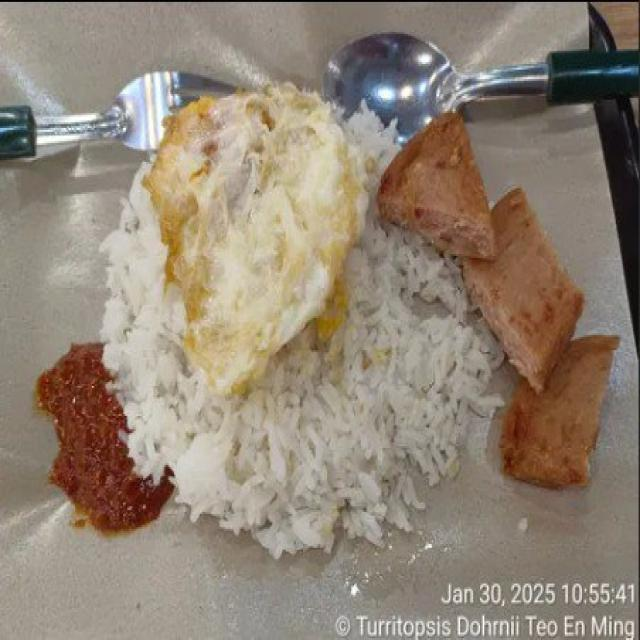Egg: (143, 83, 377, 392)
Pork: (378, 113, 617, 488)
Rice: (101, 162, 503, 557), (345, 105, 399, 175)
